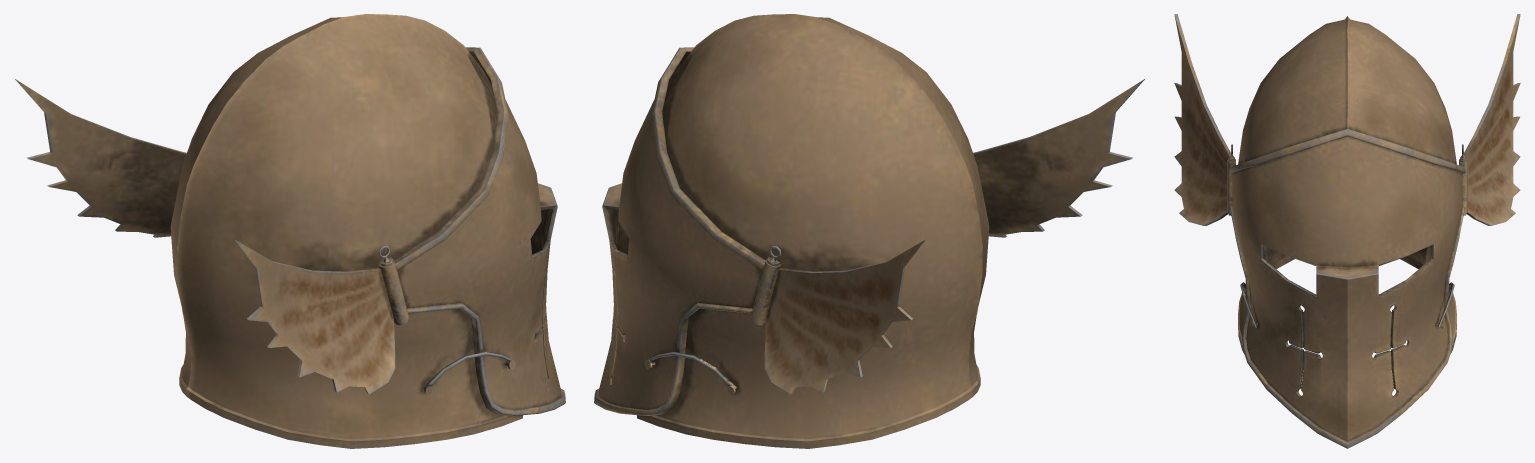
Rendered from winged-111637d14990.glb.
The picture shows the model from 3 angles, left to right: view 1: azimuth 30°, elevation 25°; view 2: azimuth 150°, elevation 25°; view 3: azimuth 270°, elevation 25°; orthographic projection. The views are drawn at different scales.
Visible parts, largest first — view 1: polySurface62; view 2: polySurface62; view 3: polySurface62.
Boxes of the visible parts, x1,y1,x2,y2 form: polySurface62: [15, 14, 565, 448]; polySurface62: [594, 14, 1144, 448]; polySurface62: [1174, 14, 1520, 448].
Size of the model in its own units: 38.08 by 35.74 by 33.27.
1 material, 1 textured.
